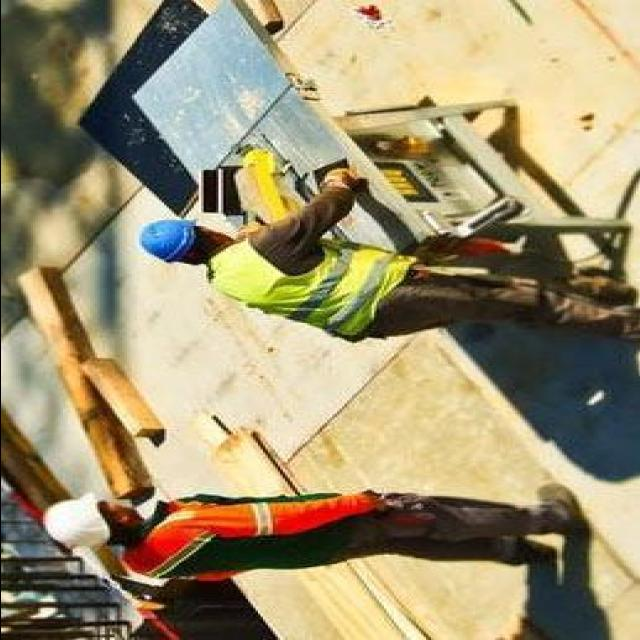helmet: (32, 486, 109, 551), (130, 213, 194, 266)
jacket: (200, 225, 396, 342)
